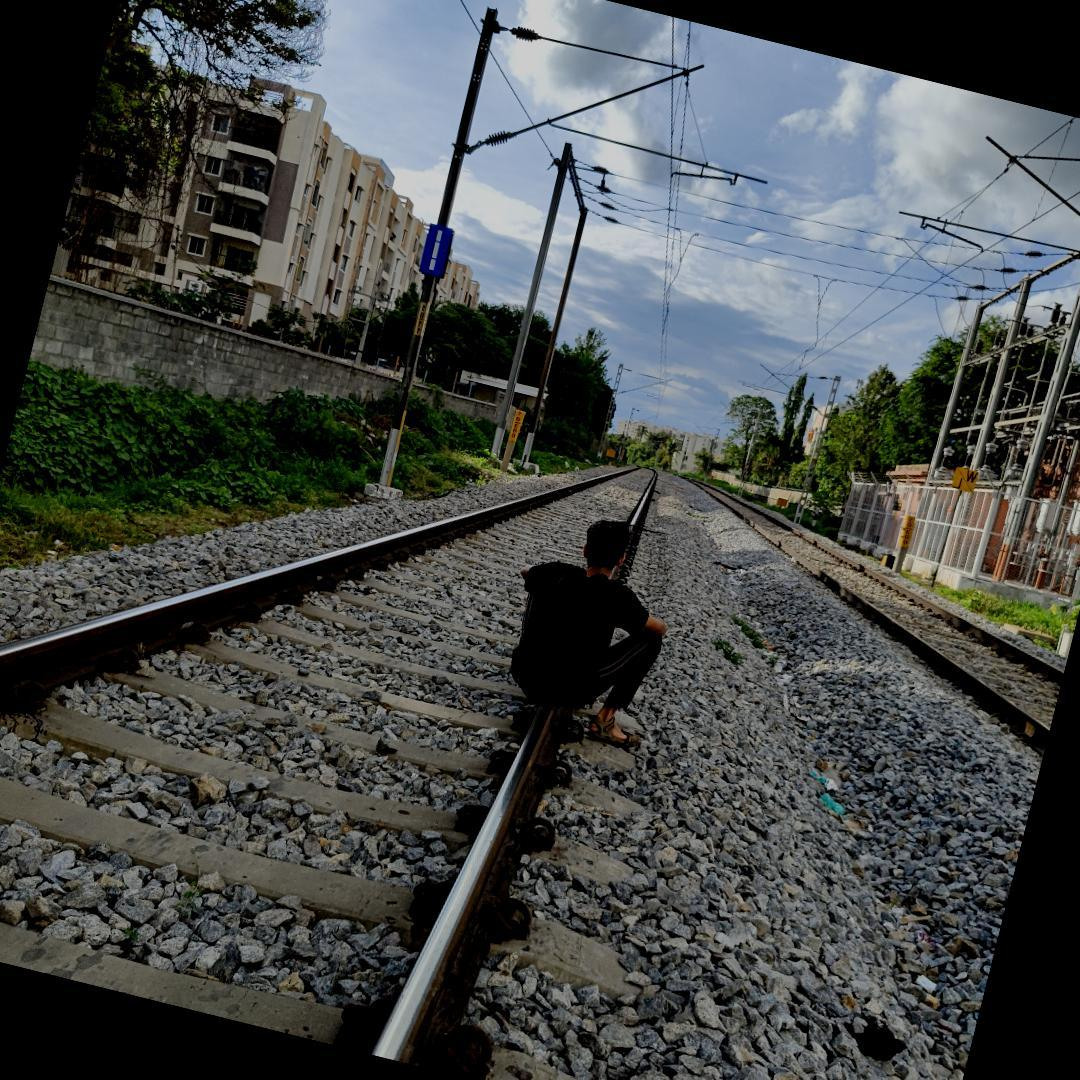sitting: (500, 513, 686, 763)
